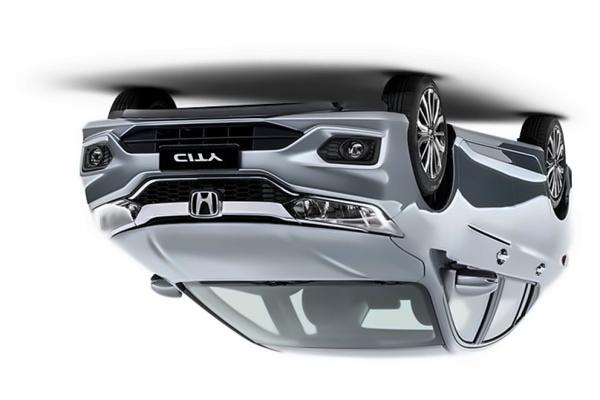Car hood: (109, 223, 427, 286)
Driver-s door - -F-R-: (426, 105, 513, 350)
Fender - -F-R-: (386, 159, 462, 295)
Front bumper: (79, 102, 423, 218)
Headlight - -L-: (90, 198, 148, 240)
Headlight - -R-: (284, 193, 403, 238)
Passenger-s door - -R-R-: (482, 111, 557, 353)
Side bumper - -R-: (444, 114, 549, 207)
Side mirror - -L-: (149, 271, 182, 301)
Side mirror - -R-: (443, 261, 499, 296)
